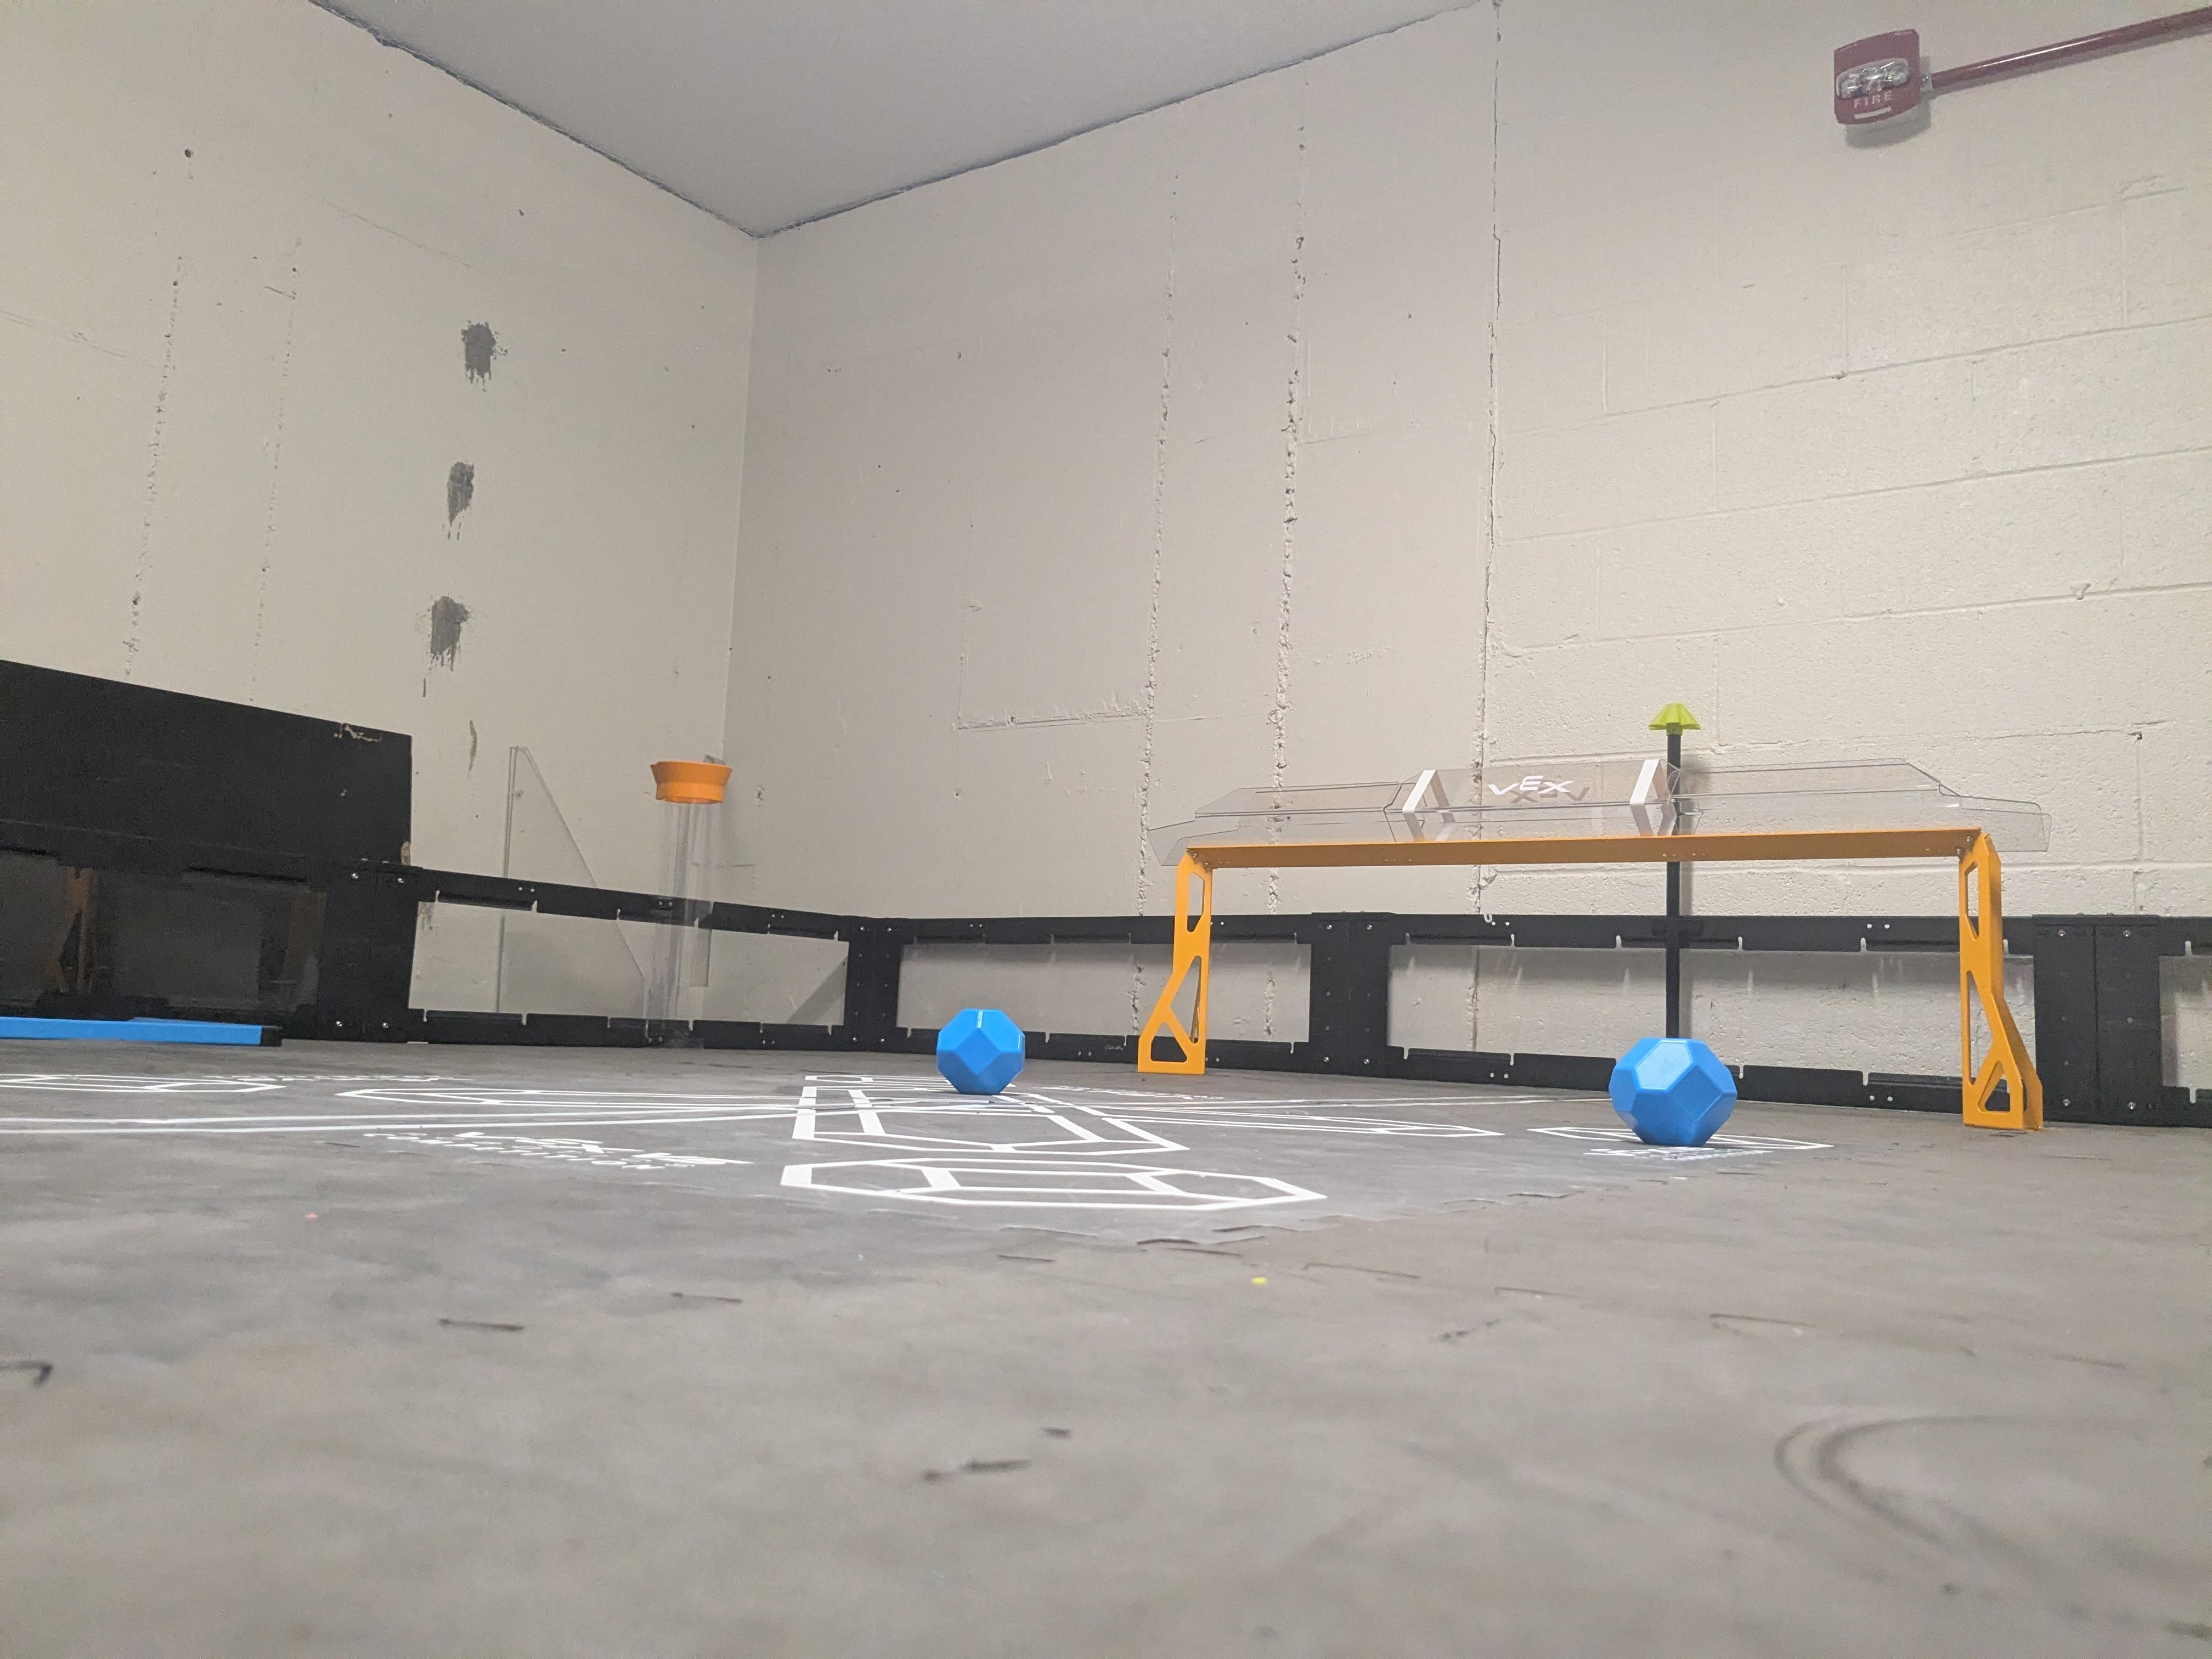Vex-Pieces-BLUE: (1609, 1039, 1738, 1141), (935, 1007, 1022, 1096)
